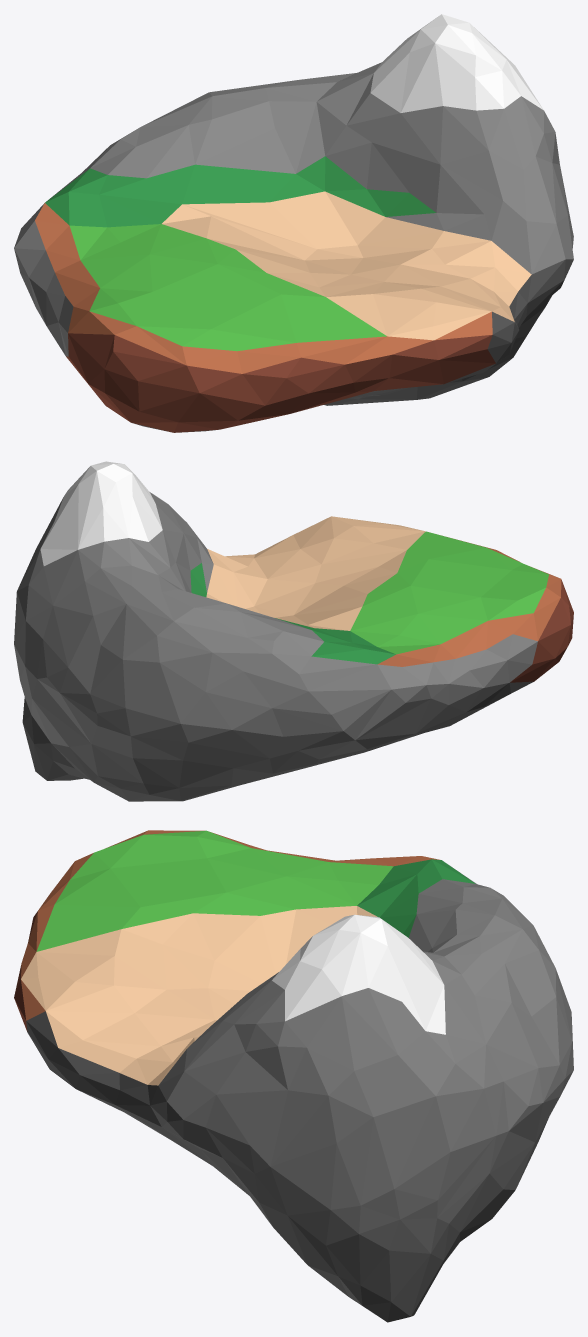
The model's file is Platform5.glb.
3 views of the same model, one above another, from view 1: azimuth 30°, elevation 25°; view 2: azimuth 150°, elevation 25°; view 3: azimuth 270°, elevation 25° (orthographic). The views are drawn at different scales.
Visible parts, largest first — view 1: Icosphere; view 2: Icosphere; view 3: Icosphere.
Boxes of the visible parts, x1=… form: Icosphere: x1=14, y1=14, x2=573, y2=432; Icosphere: x1=14, y1=461, x2=573, y2=801; Icosphere: x1=14, y1=830, x2=573, y2=1322.
Size of the model in its own units: 30.58 by 20.38 by 27.2.
1 material, 1 textured.
